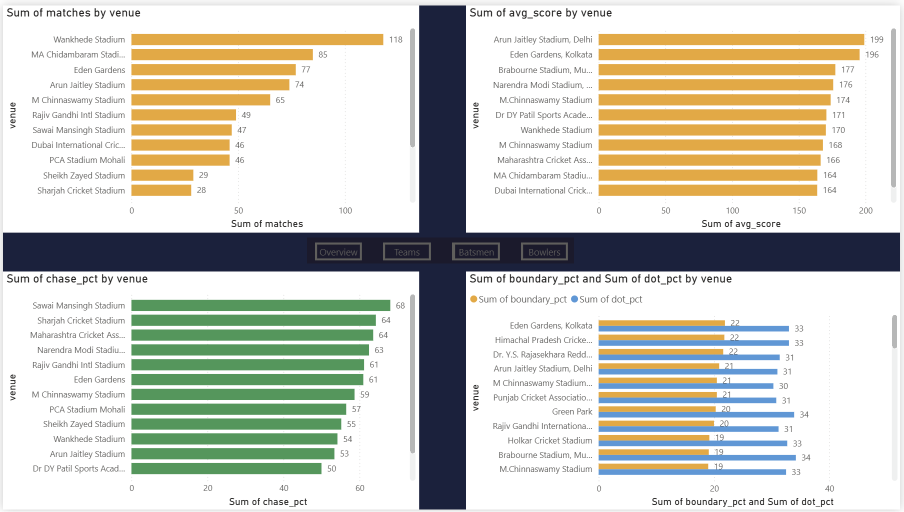

The page's visual inventory and layout, read from the dashboard file:
{"tool":"powerbi","page":{"name":"Venues","canvas":[1280,720],"ordinal":4},"visuals":[{"type":"barChart","fields":{"Category":["Venues.venue"],"Y":["Sum(Venues.matches)"]},"box":[0,0,594.3,324.3],"z":0},{"type":"textbox","box":[434.3,331.4,380,37.1],"z":0,"group":"g2"},{"type":"barChart","fields":{"Category":["Venues.venue"],"Y":["Sum(Venues.avg_score)"]},"box":[660,0,620,324.3],"z":1000},{"type":"actionButton","box":[445.7,337.9,67.1,25.7],"z":1000,"group":"g2"},{"type":"actionButton","box":[738.6,338.1,67.1,25.7],"z":2000,"group":"g2"},{"type":"barChart","fields":{"Category":["Venues.venue"],"Y":["Sum(Venues.chase_pct)"]},"box":[0,380,594.3,341.4],"z":2000},{"type":"actionButton","box":[542.9,338.5,68.6,25.7],"z":3000,"group":"g2"},{"type":"clusteredBarChart","fields":{"Category":["Venues.venue"],"Y":["Sum(Venues.boundary_pct)","Sum(Venues.dot_pct)"]},"box":[660,380,621.4,341.4],"z":3000},{"type":"actionButton","box":[641.4,338.7,67.1,25.7],"z":4000,"group":"g2"},{"type":"group","id":"g1","title":"Group 2","box":[434.3,331.4,380,37.1],"z":4001},{"type":"group","id":"g2","title":"Group 1","box":[434.3,331.4,380,37.1],"z":4002,"group":"g1"}]}

Visuals, with their boxes in screenshot pixels (x1, y1, x2, y2), scaled from the page's 1280x720 canvas onto the 904x512 screenshot:
barChart - Venues.venue x Sum(Venues.matches): crop(0, 0, 420, 231)
textbox: crop(307, 236, 575, 262)
barChart - Venues.venue x Sum(Venues.avg_score): crop(466, 0, 903, 231)
actionButton: crop(315, 240, 362, 259)
actionButton: crop(522, 240, 569, 259)
barChart - Venues.venue x Sum(Venues.chase_pct): crop(0, 270, 420, 511)
actionButton: crop(383, 241, 432, 259)
clusteredBarChart - Venues.venue x Sum(Venues.boundary_pct): crop(466, 270, 903, 511)
actionButton: crop(453, 241, 500, 259)
"Group 2" group: crop(307, 236, 575, 262)
"Group 1" group: crop(307, 236, 575, 262)
